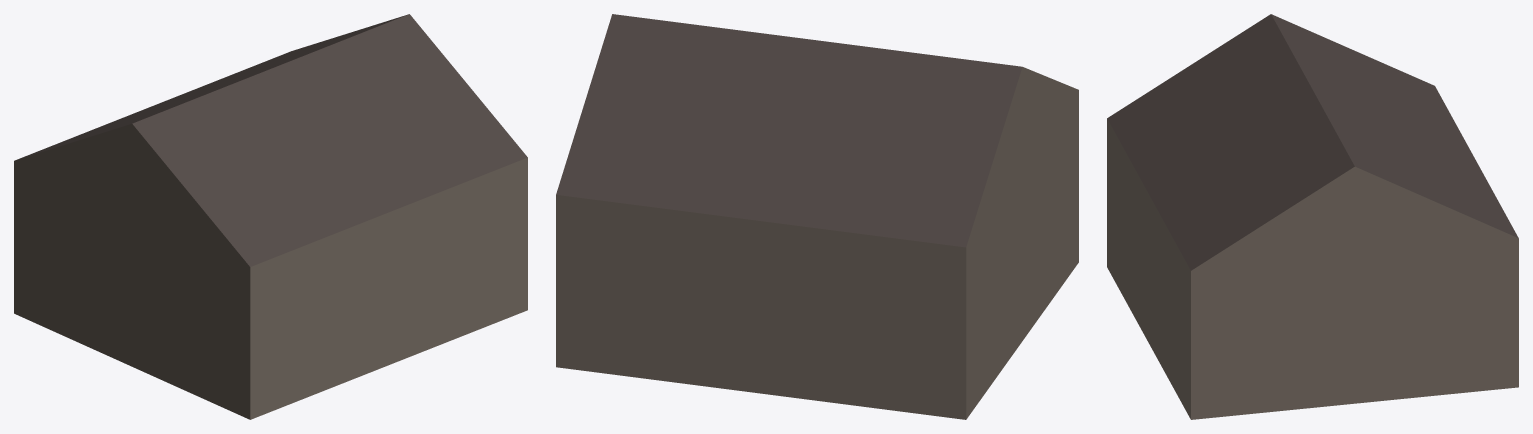
3 views of the same model, side by side, from view 1: azimuth 30°, elevation 25°; view 2: azimuth 150°, elevation 25°; view 3: azimuth 270°, elevation 25° (orthographic). The views are drawn at different scales.
Visible parts, largest first — view 1: HP-w859457332; view 2: HP-w859457332; view 3: HP-w859457332.
Boxes of the visible parts, box(x1,y1,x2,y2) form: HP-w859457332: box(14, 14, 527, 419); HP-w859457332: box(556, 14, 1078, 419); HP-w859457332: box(1107, 14, 1518, 419).
Size of the model in its own units: 15.98 by 9.55 by 15.02.
